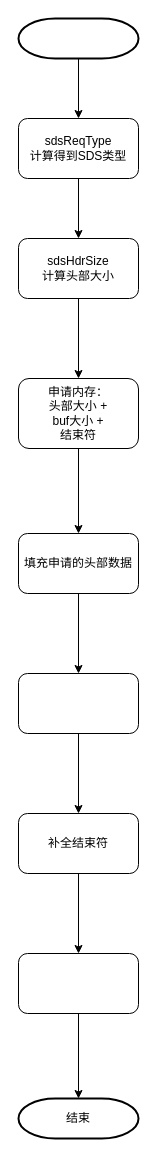
The diagram is 156 pixels wide and 1156 high, and some of its shapes have lost their labels. The centre of each missing label's shape, as x and y in pixels:
"sdsnewlen" belongs at point 78,38.
"拷贝用户输入字符串" belongs at point 78,703.
"返回buffer部分" belongs at point 78,983.
